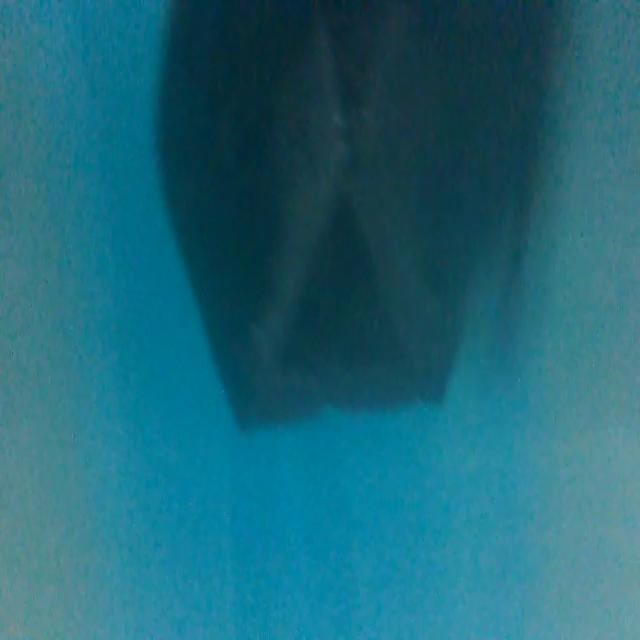plastic bags: (151, 2, 572, 437)
